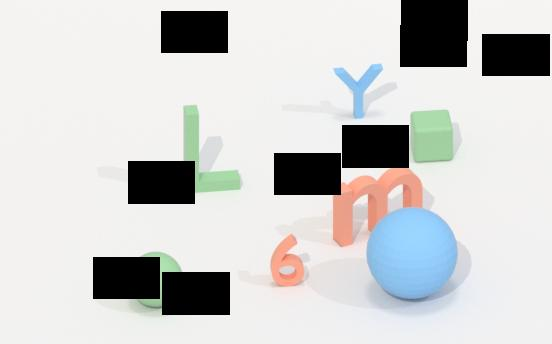6: (268, 234, 309, 289)
Y-hoa: (329, 60, 390, 120)
cau: (360, 207, 463, 300), (126, 249, 189, 310)
hop: (406, 107, 457, 164)
l: (182, 103, 247, 192)
m: (328, 164, 430, 245)
